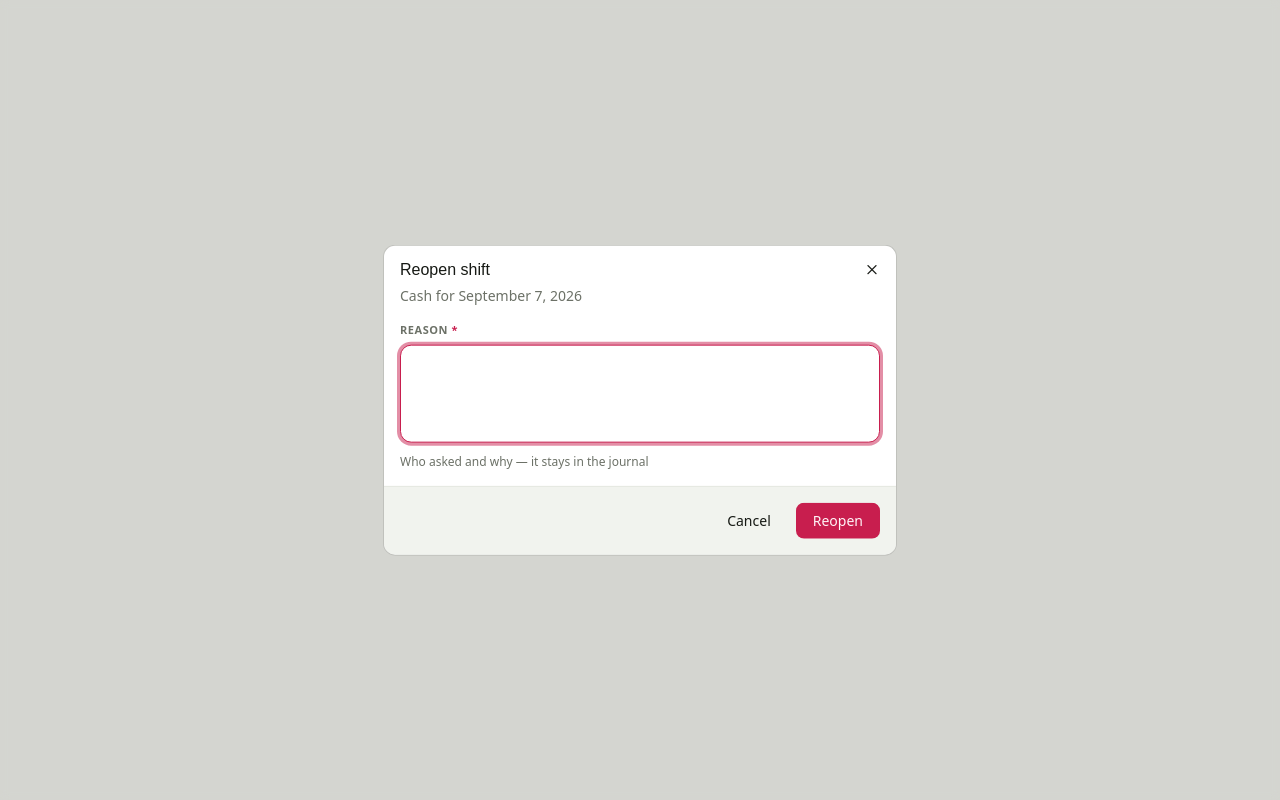
Scenario: ReopenShiftDialog › refuses a blank reason — the reason IS the trace a reopen leaves
Click the button "Reopen" at (838, 520), box [796,502,880,538]
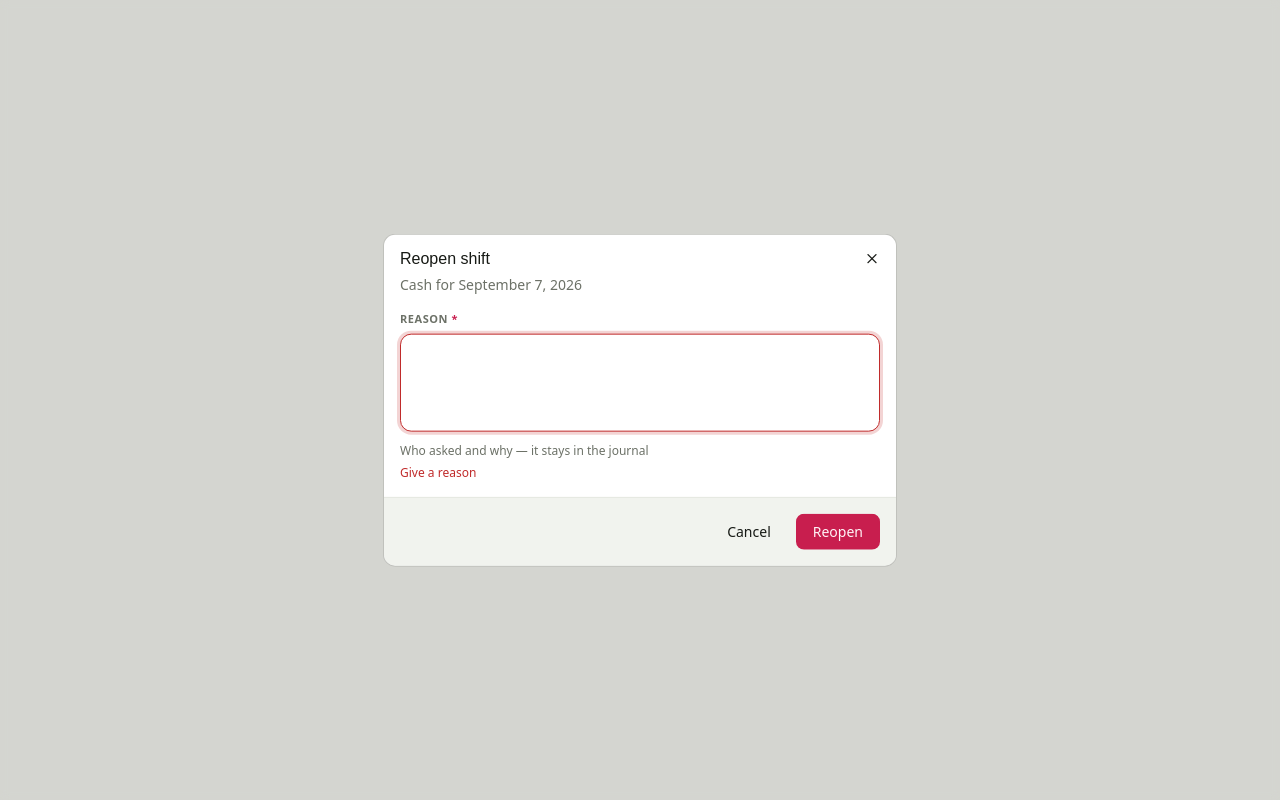
Check: the text "Give a reason" is shown, box [400,463,476,480]
